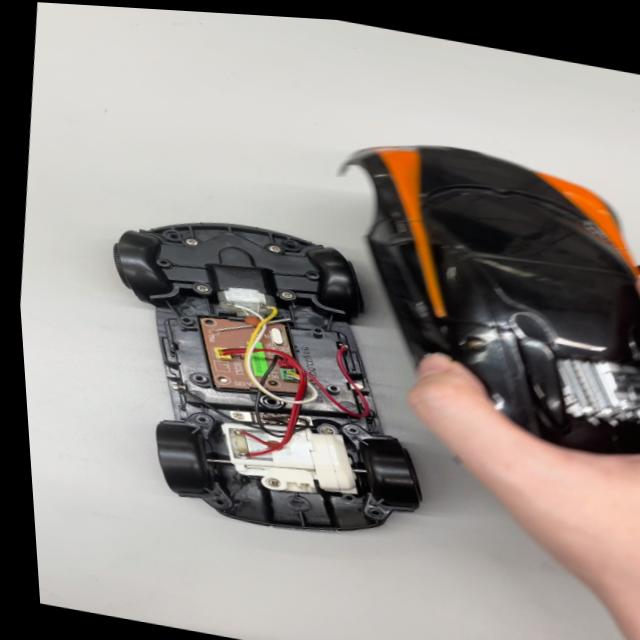vehicle_body: (308, 125, 640, 463)
